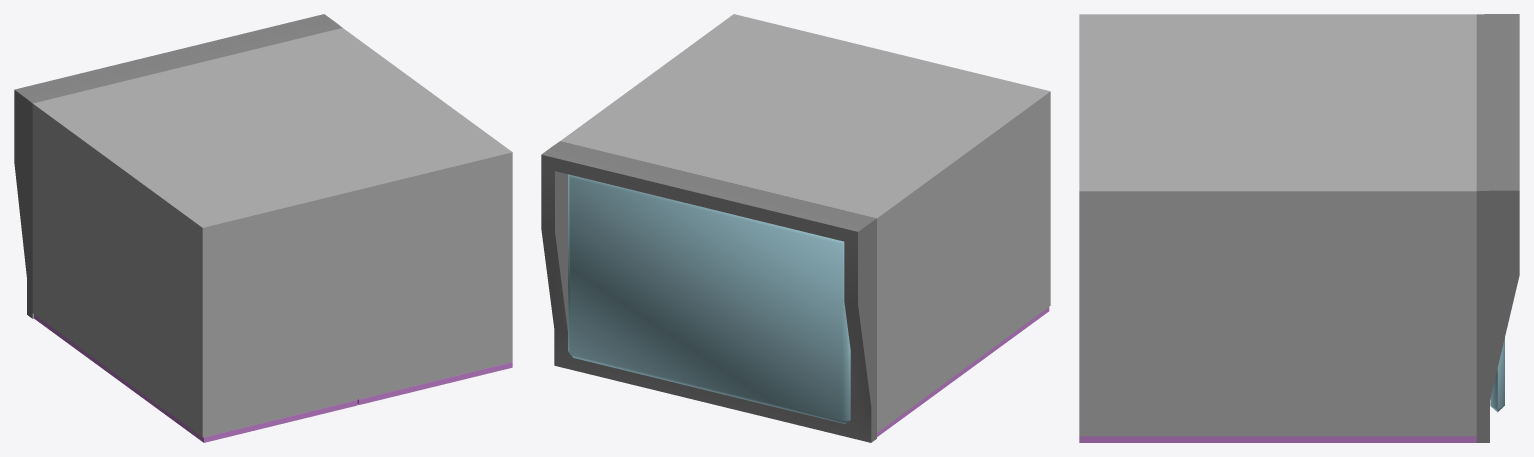
3 views of the same model, side by side, from view 1: azimuth 30°, elevation 25°; view 2: azimuth 150°, elevation 25°; view 3: azimuth 270°, elevation 25° (orthographic). The views are drawn at different scales.
Visible parts, largest first — view 1: Cube; view 2: Cube; view 3: Cube.
Part boxes in pixels (bbox=[...]): Cube: bbox=[14, 14, 512, 442]; Cube: bbox=[541, 14, 1050, 442]; Cube: bbox=[1079, 14, 1519, 442].
Bounding box in the file's own units: 90 × 62.1 × 94.76.
